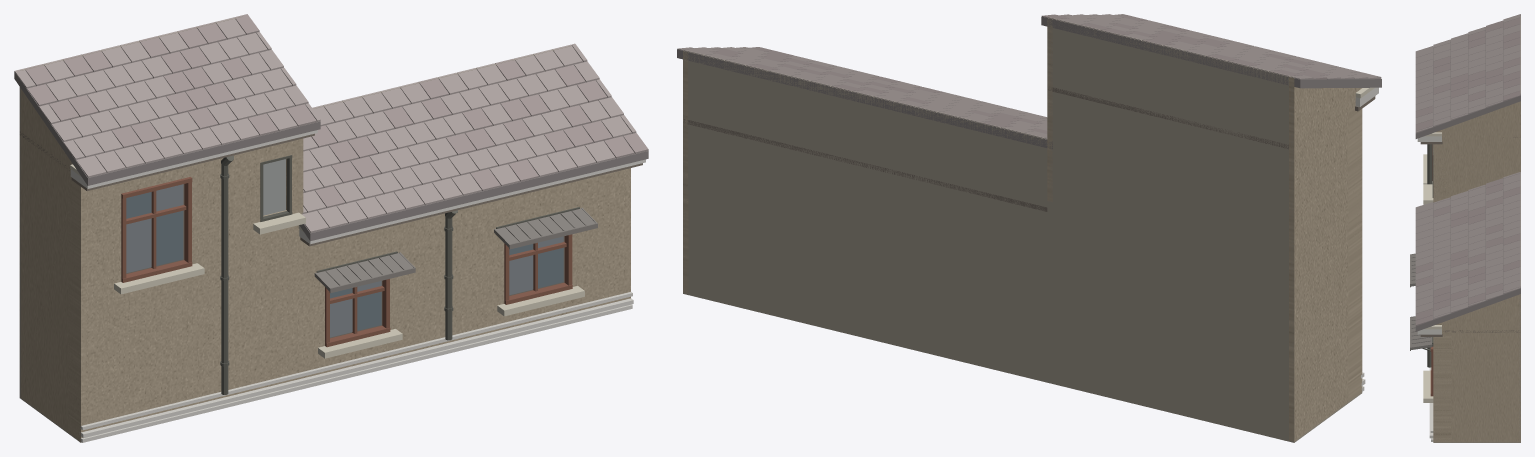
File: taiyuan-lane-50-far.glb
3 views of the same model, side by side, from view 1: azimuth 30°, elevation 25°; view 2: azimuth 150°, elevation 25°; view 3: azimuth 270°, elevation 25° (orthographic). The views are drawn at different scales.
Parts seen in each view (by area): view 1: 太原路50弄并立式住宅东立面落檐双窗; view 2: 太原路50弄并立式住宅东立面落檐双窗; view 3: 太原路50弄并立式住宅东立面落檐双窗.
Boxes of the visible parts, box(x1,y1,x2,y2) form: 太原路50弄并立式住宅东立面落檐双窗: box(14, 14, 648, 442); 太原路50弄并立式住宅东立面落檐双窗: box(677, 14, 1381, 442); 太原路50弄并立式住宅东立面落檐双窗: box(1410, 14, 1520, 442).
Bounding box in the file's own units: 7.93 × 4.44 × 1.9.
14 materials, 1 textured.
